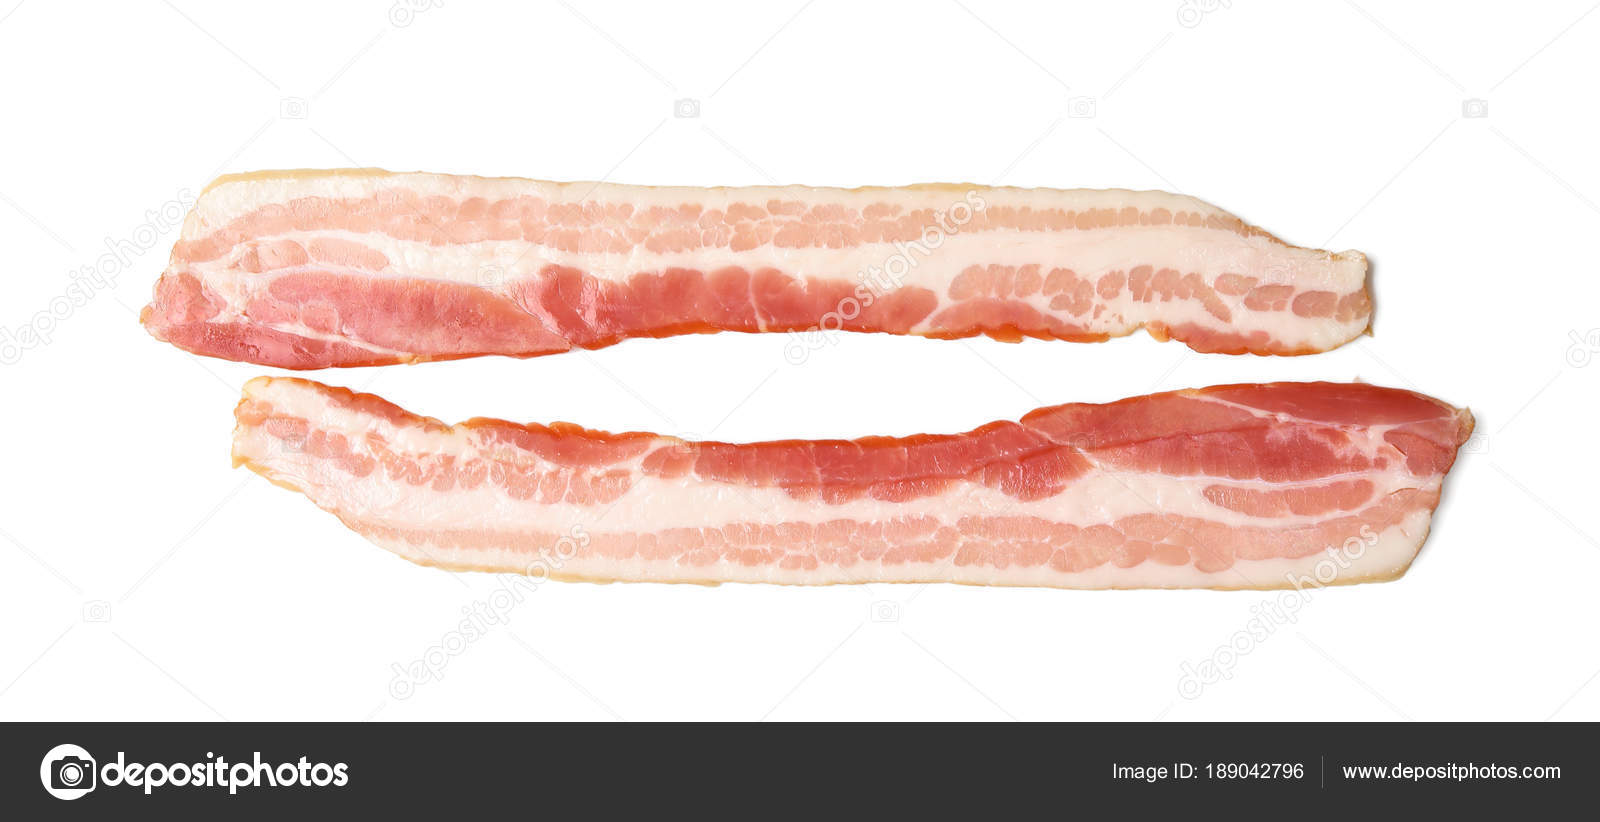bacon: (150, 121, 1467, 643)
